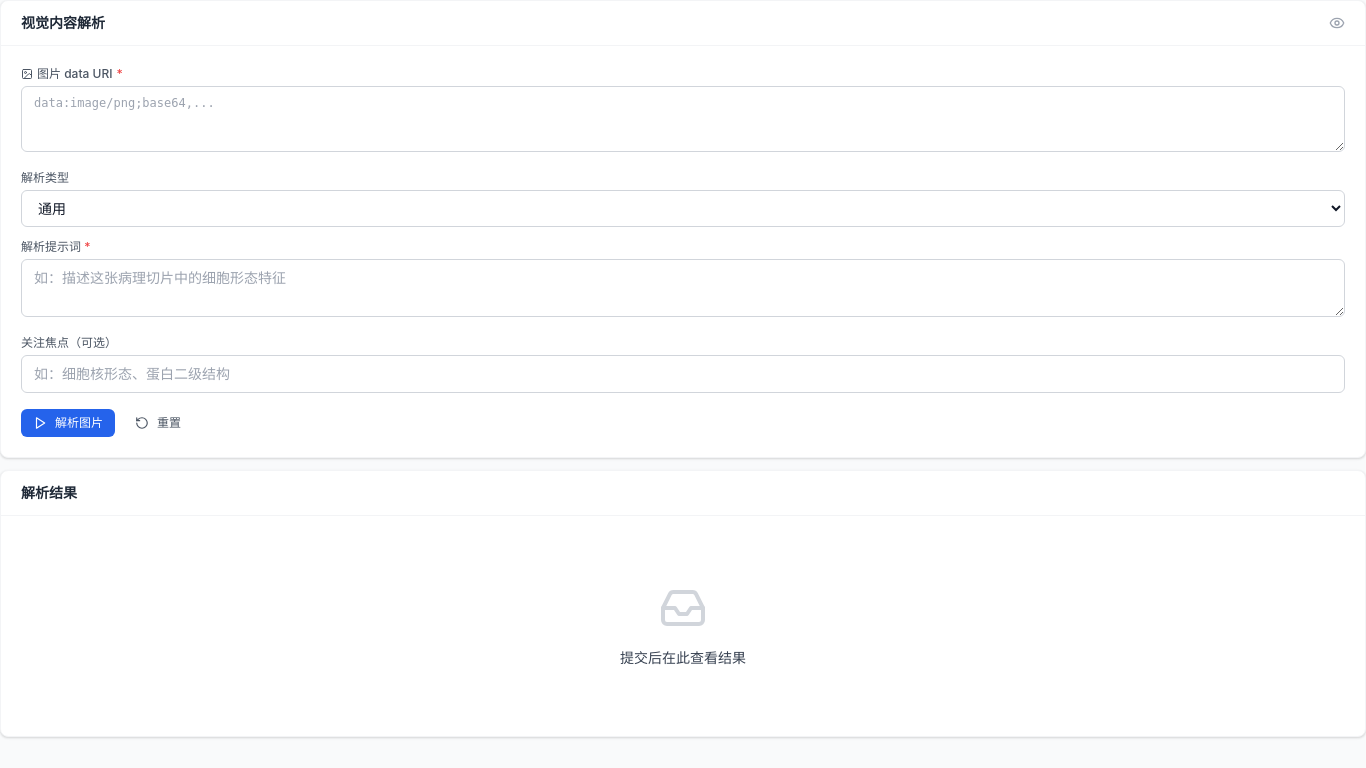
Test case: VisionAnalyzerCard › 有图片无提示词显示验证错误
Replace the text in the text box with placeholder "d ata:image" with "d ata:image/png;base64,abc" at (683, 119), box 21,86 -> 1345,152
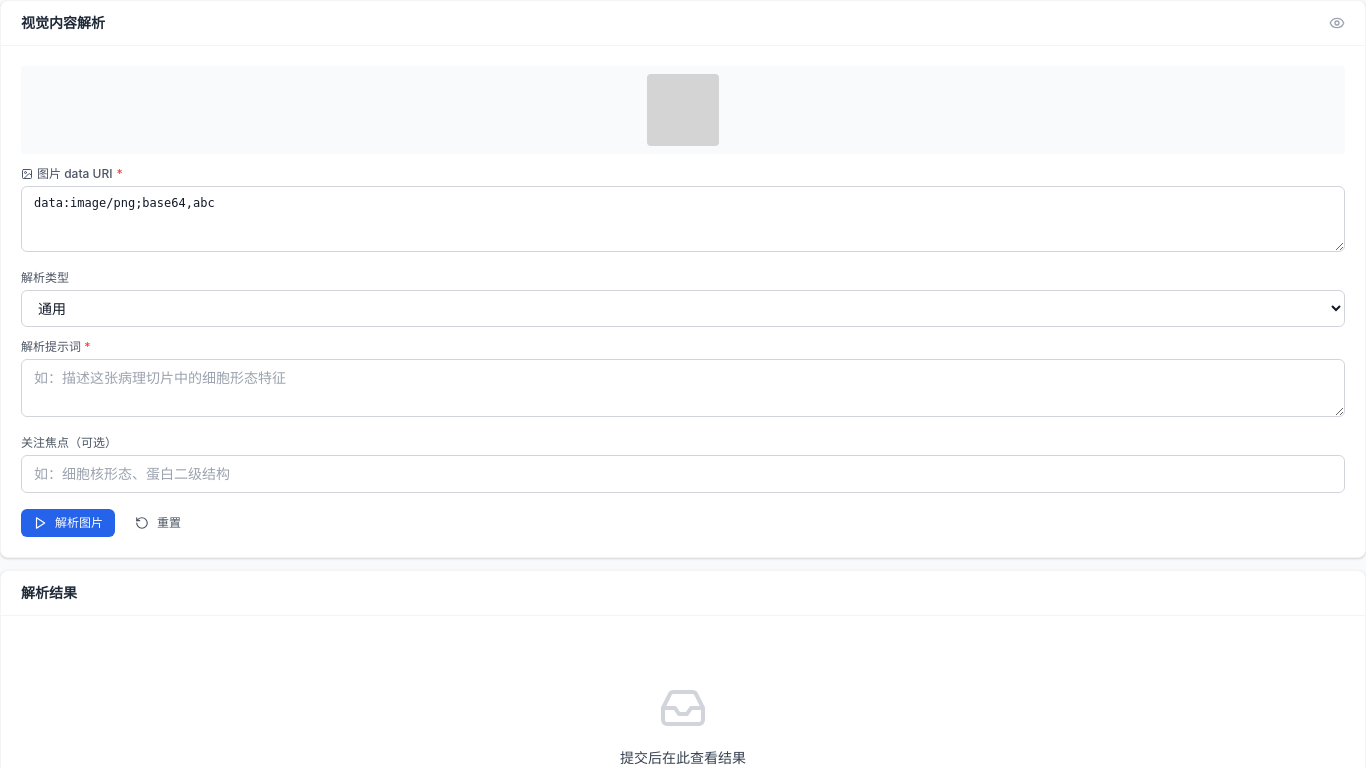
Click the button "解析图片".
click(68, 523)  # box 21,509 -> 115,537
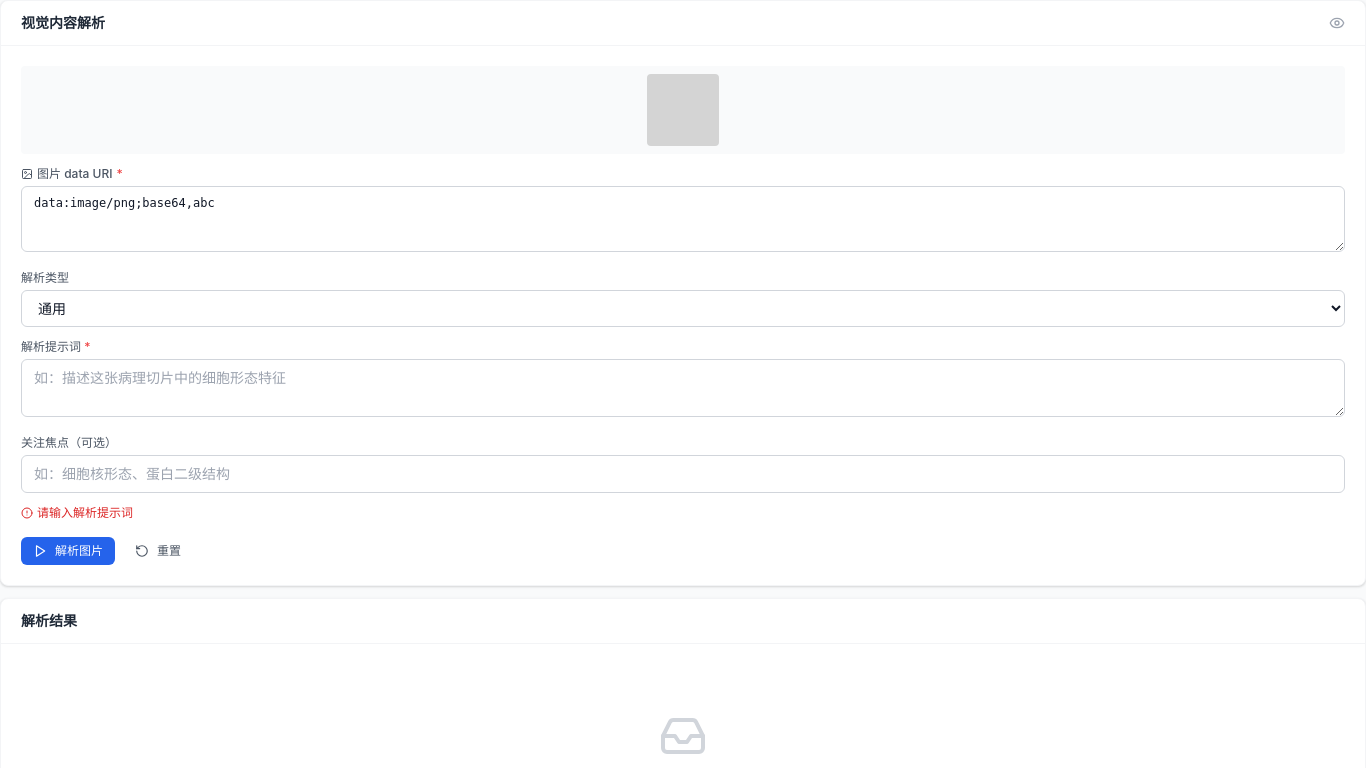
Expected: the text "请输入解析提示词" is shown, 37,505 -> 133,521
